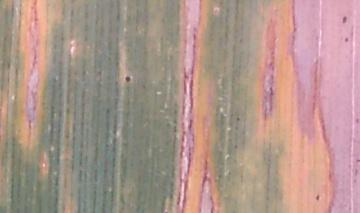tarspot: (341, 15, 349, 25), (124, 75, 132, 83), (314, 193, 321, 202), (344, 37, 349, 42)
